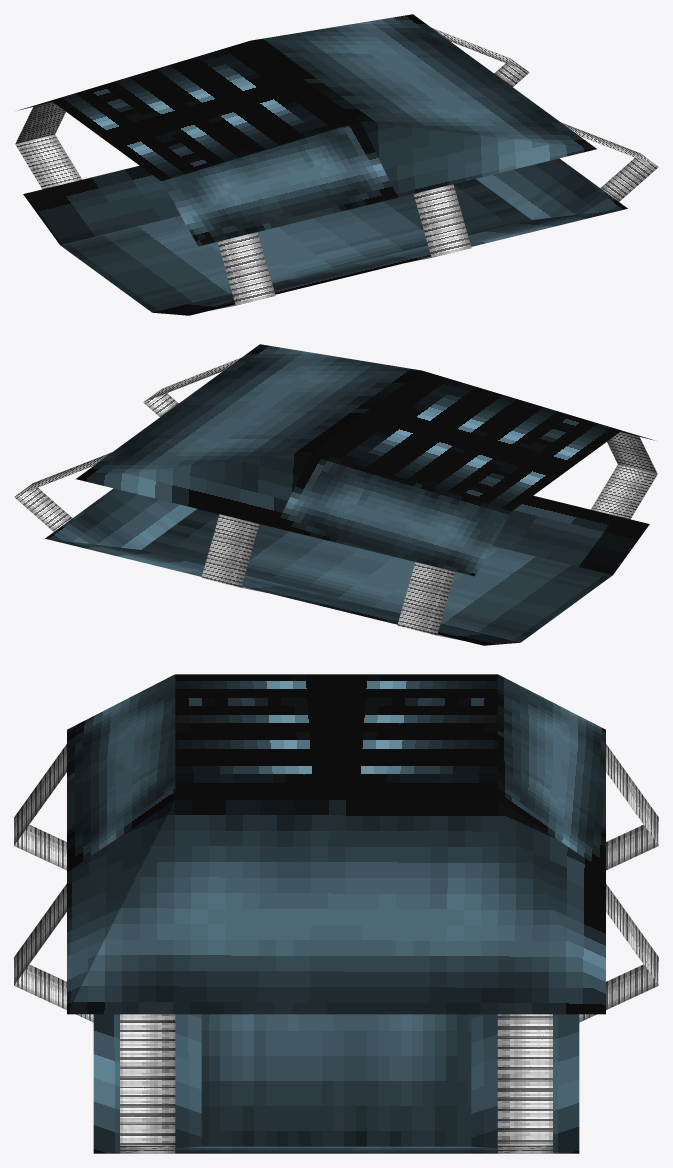
Rendered from primary_071.glb.
3 renders of one model, top to bottom at view 1: azimuth 30°, elevation 25°; view 2: azimuth 150°, elevation 25°; view 3: azimuth 270°, elevation 25°, orthographic. The views are drawn at different scales.
Visible parts, largest first — view 1: Object; view 2: Object; view 3: Object.
Boxes of the visible parts, bbox=[...] form: Object: bbox=[15, 14, 658, 315]; Object: bbox=[14, 344, 657, 645]; Object: bbox=[14, 674, 658, 1153].
Size of the model in its own units: 0.6719 by 0.2002 by 0.5361.
3 materials, 3 textured.
